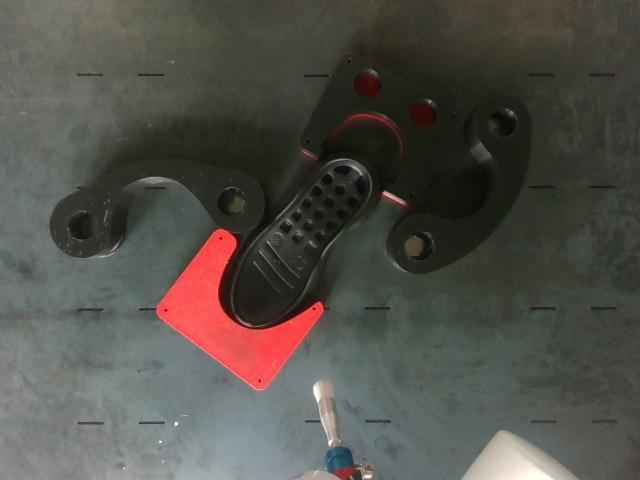shoes: (234, 160, 372, 326)
